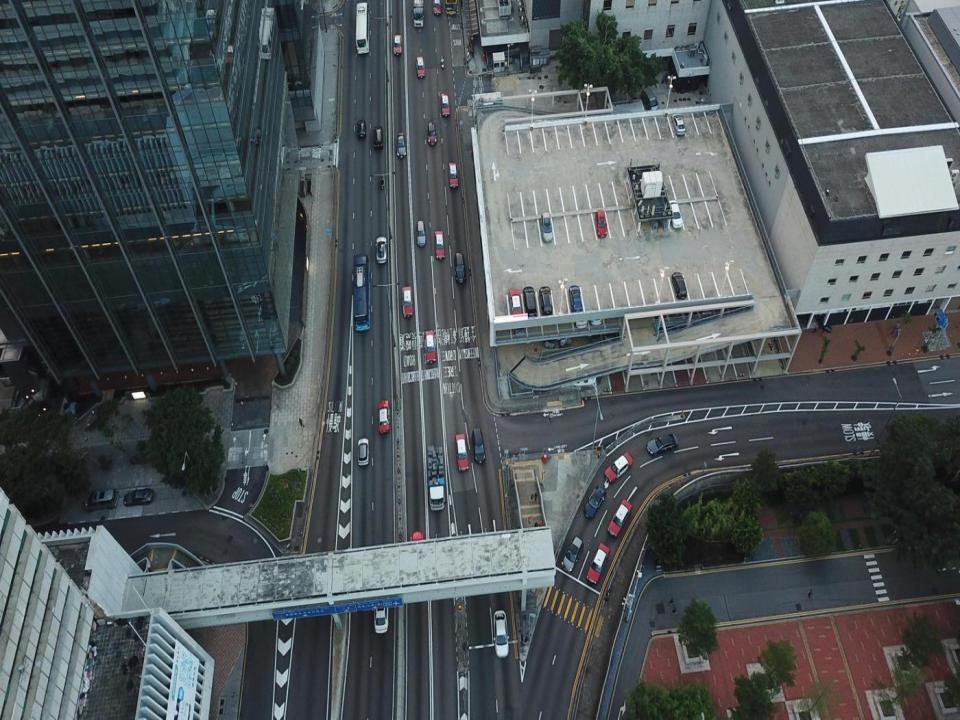bus: (352, 255, 372, 330), (356, 2, 370, 53)
car: (603, 452, 633, 482), (587, 543, 609, 583), (607, 500, 630, 535), (562, 536, 583, 574), (584, 483, 606, 518), (493, 609, 509, 657), (646, 433, 679, 456), (85, 490, 119, 509), (123, 488, 154, 504), (375, 595, 388, 633), (456, 433, 468, 472), (472, 428, 485, 463), (523, 287, 536, 320), (378, 400, 390, 434), (668, 200, 682, 228), (672, 271, 686, 298), (425, 329, 436, 363), (402, 286, 414, 317), (541, 211, 553, 242), (540, 286, 552, 317), (411, 530, 423, 558), (510, 289, 522, 316), (671, 113, 685, 136), (455, 253, 466, 282), (358, 438, 369, 466), (570, 285, 581, 313), (595, 208, 606, 236), (415, 219, 426, 246), (376, 236, 387, 263), (435, 230, 445, 258), (449, 162, 459, 189), (427, 122, 437, 146), (396, 132, 406, 156), (374, 126, 384, 148), (441, 92, 449, 116), (575, 311, 586, 328), (357, 119, 366, 138), (559, 329, 570, 344), (590, 312, 602, 325), (417, 56, 424, 78), (701, 300, 712, 314), (514, 321, 523, 337), (605, 325, 614, 341), (394, 35, 401, 54), (544, 333, 553, 347), (434, 0, 440, 15)
truck: (427, 443, 446, 511), (414, 1, 425, 28)
van: (641, 87, 658, 111)
